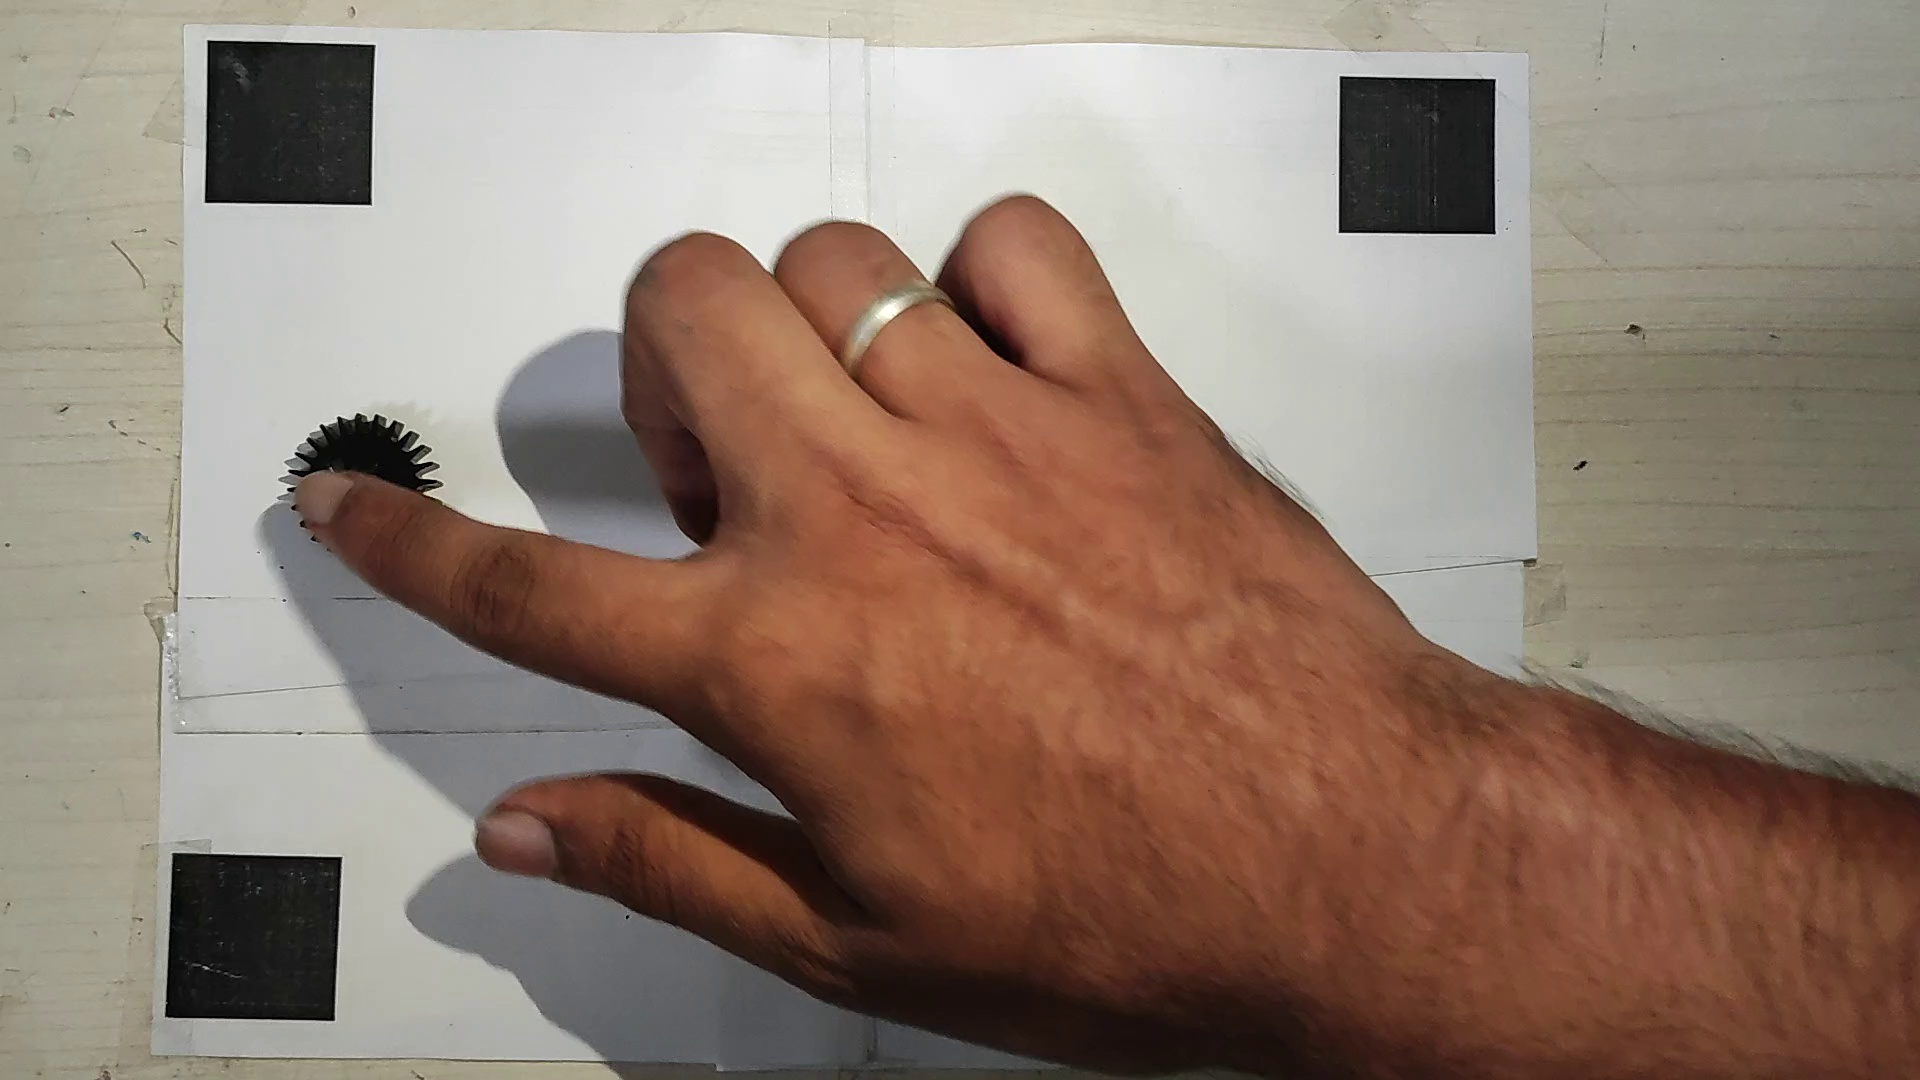Gear: (281, 406, 446, 572)
